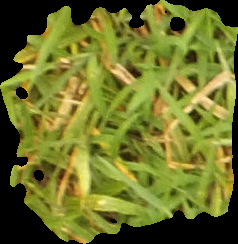grass: (1, 1, 236, 243)
